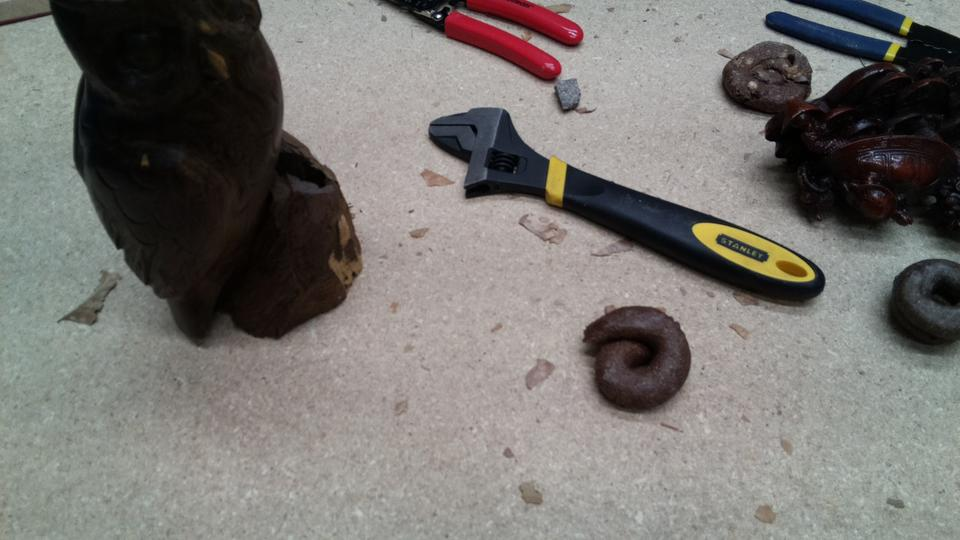poop: (581, 306, 691, 413), (719, 39, 817, 116), (884, 253, 960, 351)
